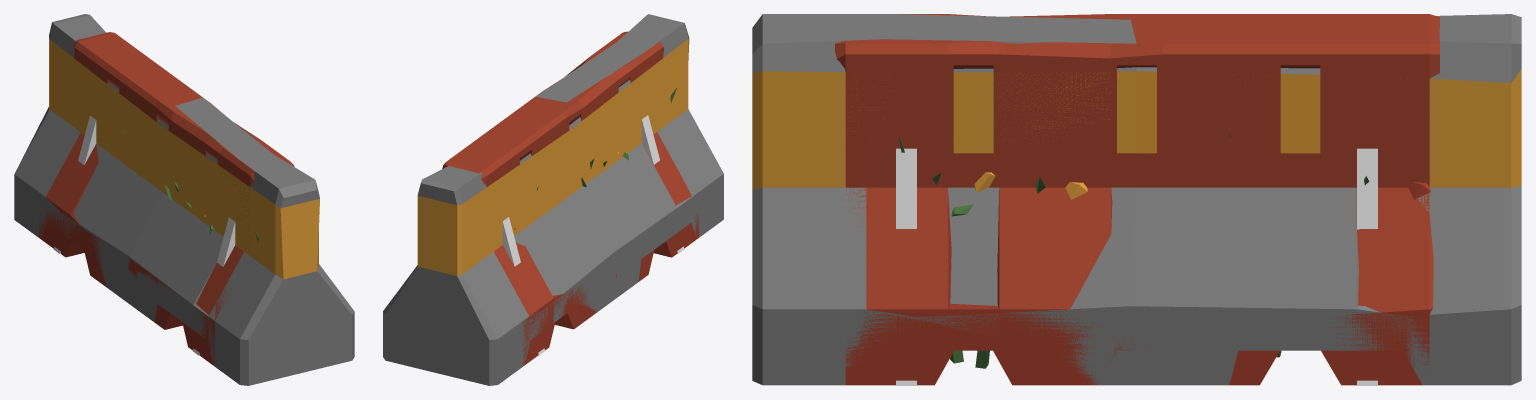
Rendered from dividers.glb.
3 views of the same model, side by side, from view 1: azimuth 30°, elevation 25°; view 2: azimuth 150°, elevation 25°; view 3: azimuth 270°, elevation 25° (orthographic). The views are drawn at different scales.
Parts seen in each view (by area): view 1: jersey-barrier-concrete, jersey-barrier-plastic, barricade; view 2: jersey-barrier-concrete, jersey-barrier-plastic, barricade; view 3: jersey-barrier-concrete, jersey-barrier-plastic, barricade, planter-box.
Part boxes in pixels (x1,y1,x2,y2): jersey-barrier-concrete: (14,14,354,385); jersey-barrier-plastic: (39,32,294,365); barricade: (54,115,235,355); jersey-barrier-concrete: (383,14,723,385); jersey-barrier-plastic: (442,31,698,365); barricade: (502,115,684,355); jersey-barrier-concrete: (752,14,1521,385); jersey-barrier-plastic: (835,14,1439,385); barricade: (896,148,1377,385); planter-box: (898,132,1430,216).
Bounding box in the file's own units: 0.664 × 1.02 × 2.29.
1 material, 1 textured.
